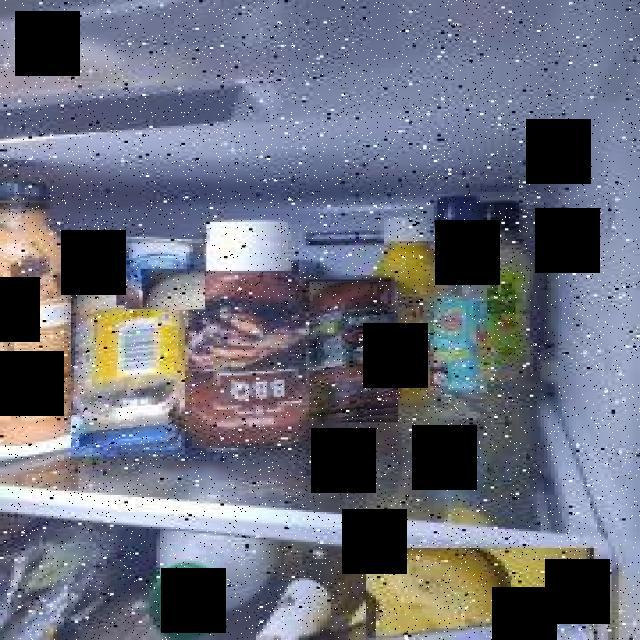banana: (366, 548, 594, 640)
mayonaise: (71, 271, 185, 456)
tomato_sauce: (310, 282, 398, 424)
yogurt: (119, 238, 205, 310)
